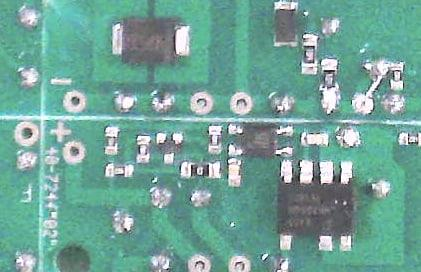chip-capacitor: (298, 130, 331, 148), (225, 157, 243, 188)
chip-resistor: (179, 159, 222, 179), (320, 58, 340, 97), (300, 33, 317, 74), (205, 123, 224, 157), (134, 133, 153, 165), (104, 161, 135, 179), (103, 124, 120, 156), (388, 62, 405, 91), (396, 131, 421, 147)
diode: (110, 15, 192, 68), (271, 1, 299, 48)
ic: (274, 157, 359, 252), (226, 121, 294, 158)
transistor: (155, 131, 184, 165)
